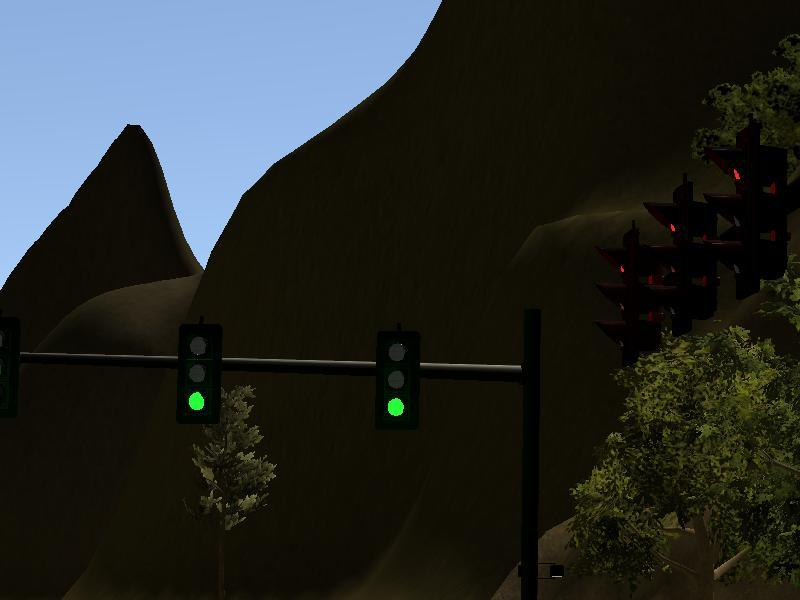Green: (375, 330, 420, 431), (176, 323, 220, 424)
